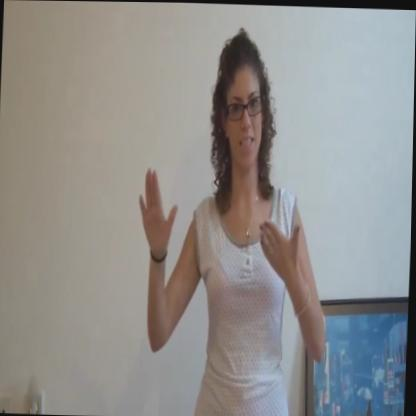NiceToMeetYou: (127, 156, 308, 311)
